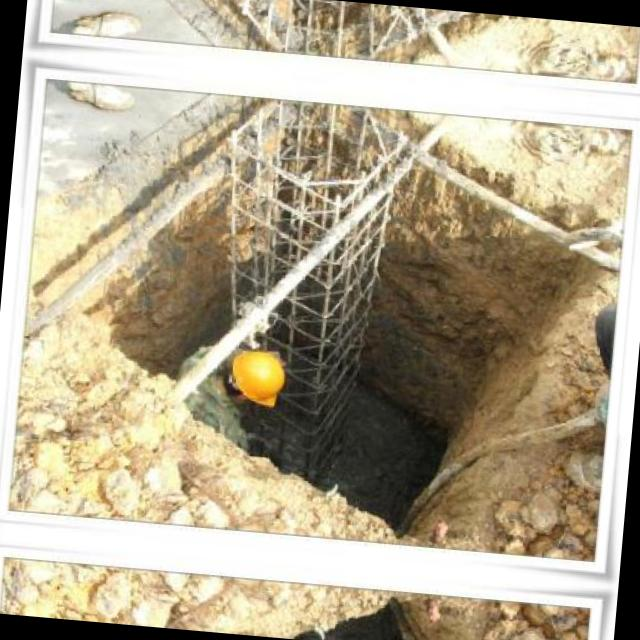helmet: (210, 342, 288, 412)
